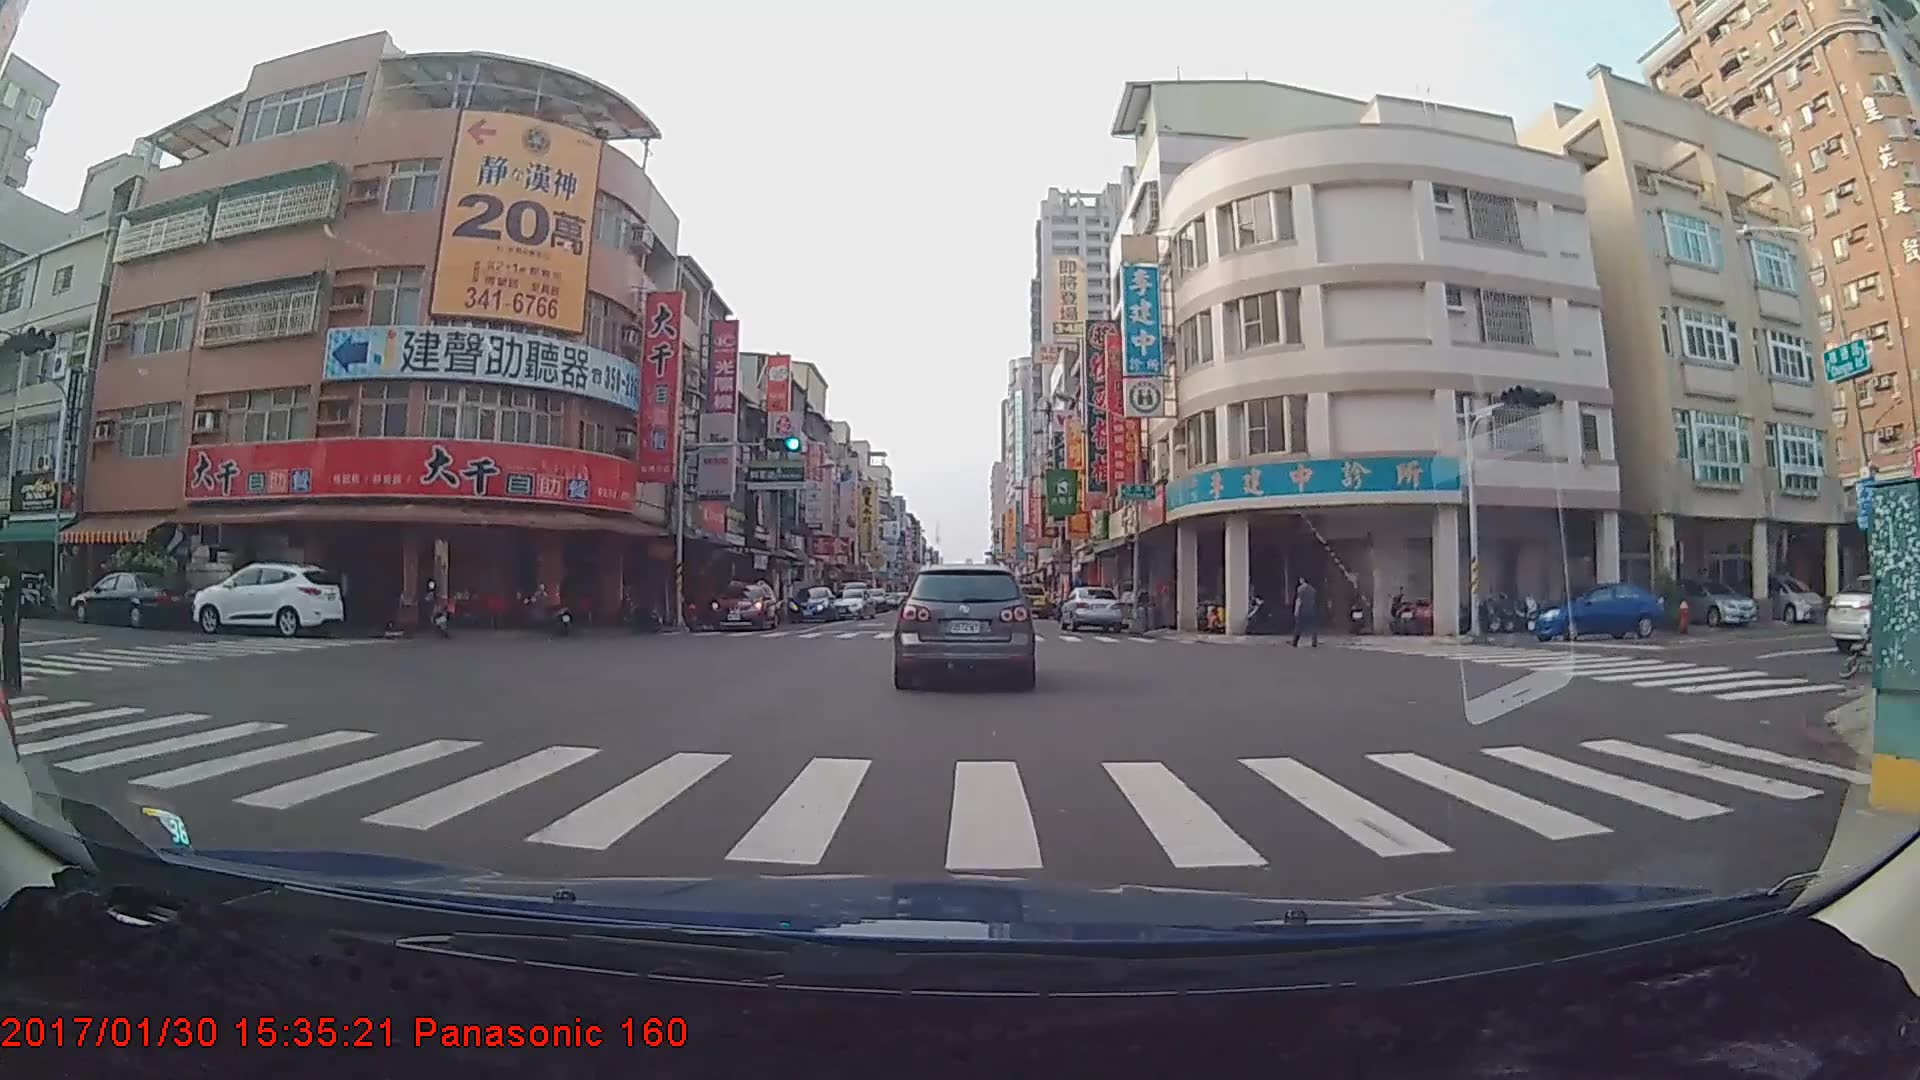pedestrian: (1291, 578, 1321, 651)
vehicle: (892, 563, 1036, 689), (191, 561, 343, 636), (1528, 582, 1665, 642), (71, 568, 194, 631), (1730, 568, 1829, 626), (1651, 573, 1758, 627), (709, 578, 777, 631), (1056, 584, 1123, 631), (787, 584, 838, 622), (826, 588, 876, 618), (1011, 583, 1049, 618)
